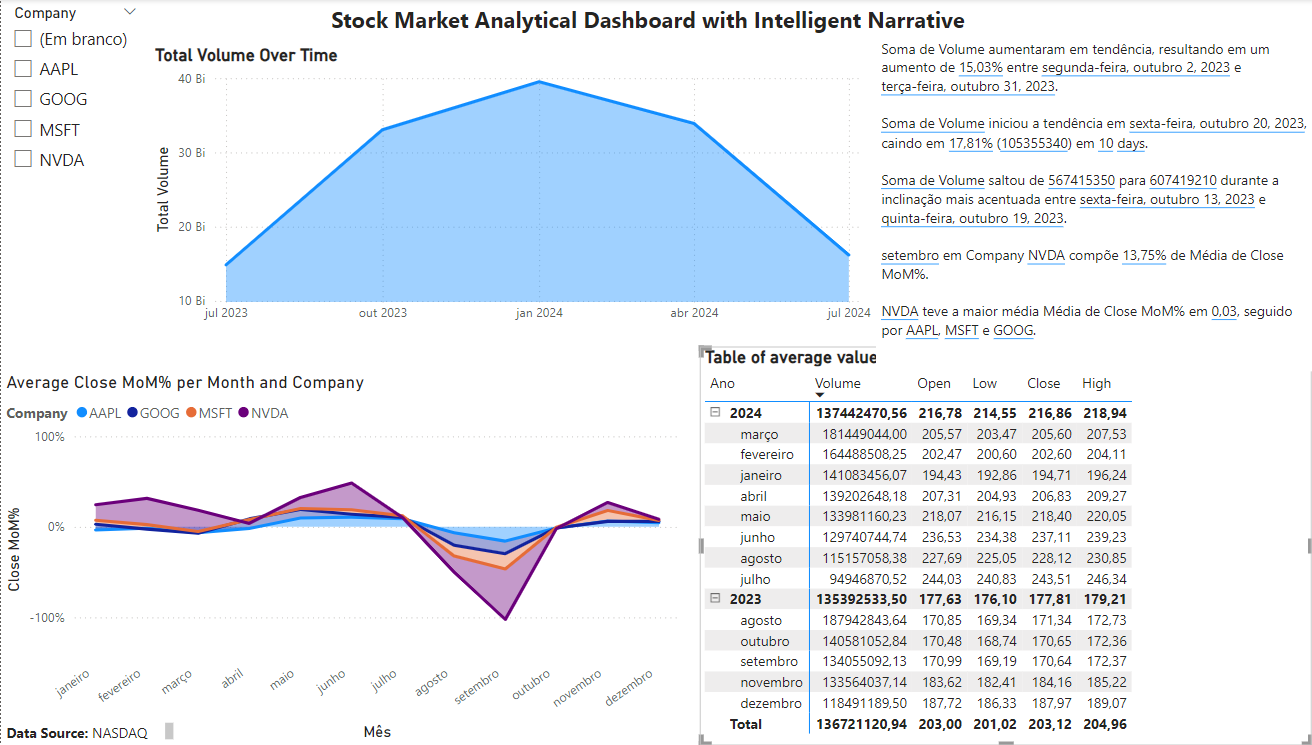

This screenshot's page, from the dashboard's own definition file:
{"tool":"powerbi","page":{"name":"Stock Market","canvas":[1280,720],"ordinal":0},"visuals":[{"type":"areaChart","title":"Total Volume Over Time","fields":{"Category":["TEC Stock Market.Date.Variation.Hierarquia de datas.Ano","TEC Stock Market.Date.Variation.Hierarquia de datas.Trimestre","TEC Stock Market.Date.Variation.Hierarquia de datas.Mês","TEC Stock Market.Date.Variation.Hierarquia de datas.Dia"],"Y":["Sum(TEC Stock Market.Volume)"]},"box":[143.6,43.4,700.9,292],"z":0},{"type":"pivotTable","title":"Table of average values per month","fields":{"Rows":["TEC Stock Market.Date.Variation.Hierarquia de datas.Ano","TEC Stock Market.Date.Variation.Hierarquia de datas.Mês"],"Values":["Avg(TEC Stock Market.Volume)","Avg(TEC Stock Market.Open)","Avg(TEC Stock Market.Low)","Sum(TEC Stock Market.Close)","Avg(TEC Stock Market.High)"]},"box":[674.4,335.4,591.2,384.9],"z":1000},{"type":"slicer","fields":{"Values":["TEC Stock Market.Company"]},"box":[0,0,143.6,189.4],"z":2000},{"type":"stackedAreaChart","title":"Average Close MoM% per Month and Company","fields":{"Category":["TEC Stock Market.Date.Variation.Hierarquia de datas.Mês"],"Y":["StockMarket.Média de Close MoM%"],"Series":["StockMarket.Company"]},"box":[0,359.5,659.9,360.7],"z":3000},{"type":"textbox","box":[313.7,0,646.7,43.4],"z":4000},{"type":"textbox","box":[844.5,33.8,435.5,325.7],"z":5000},{"type":"textbox","box":[0,693.7,171.3,26.5],"z":6000}]}

Visuals, with their boxes on the page's 1280x720 design canvas (x1, y1, x2, y2). These are canvas units, not pixel positions in the 1312x745 screenshot, which may show the page scaled, cropped or inside an application window:
"Total Volume Over Time" areaChart: 144/43/844/335
"Table of average values per month" pivotTable: 674/335/1266/720
slicer - TEC Stock Market.Company: 0/0/144/189
"Average Close MoM% per Month and Company" stackedAreaChart: 0/360/660/720
textbox: 314/0/960/43
textbox: 844/34/1280/360
textbox: 0/694/171/720
